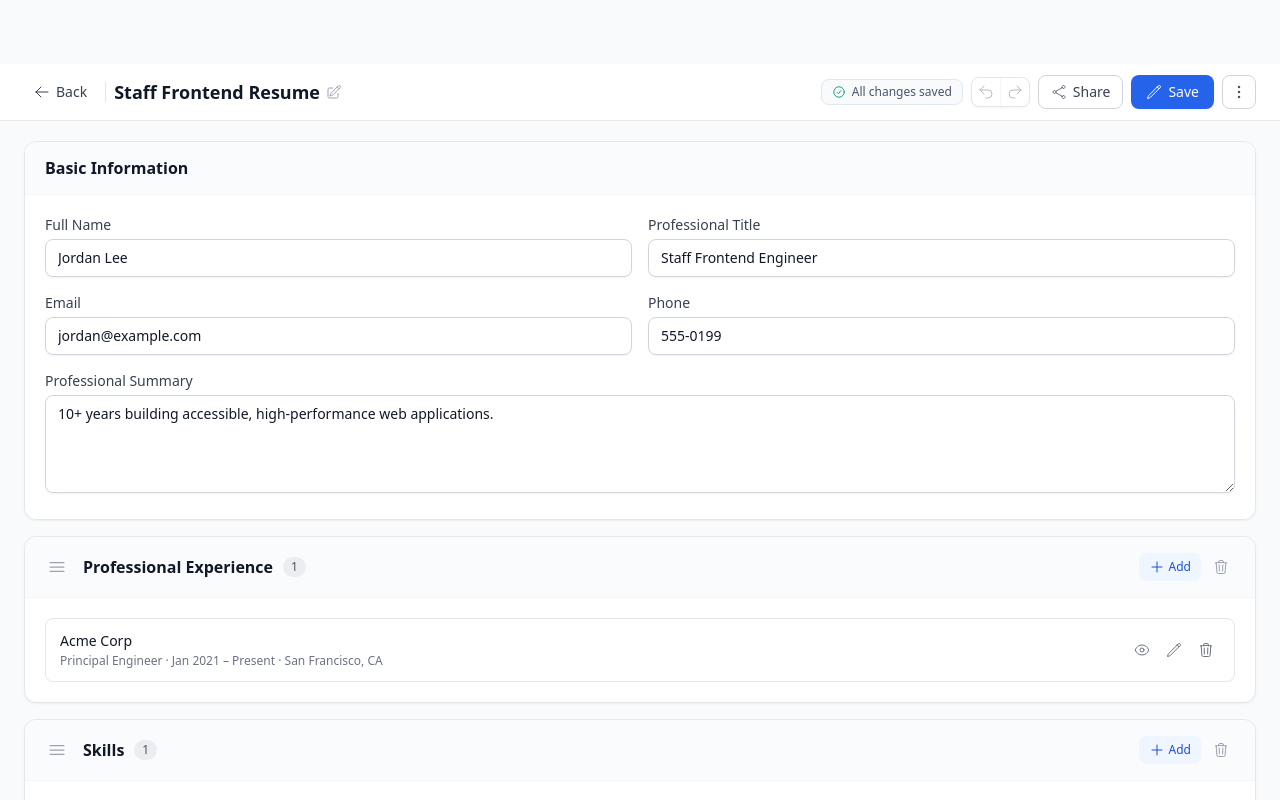
Scenario: ResumeEditor autosave, toolbar status indicator, flush, and serialization › cancels pending debounce on manual Save and serializes concurrent saves with latest queued state
Trigger first autosave so an updateResume call is in-flight
Replace the text in the field labelled "Full Name" with "State 1" at (338, 258), box [45,239,632,277]
Wait 2000 ms
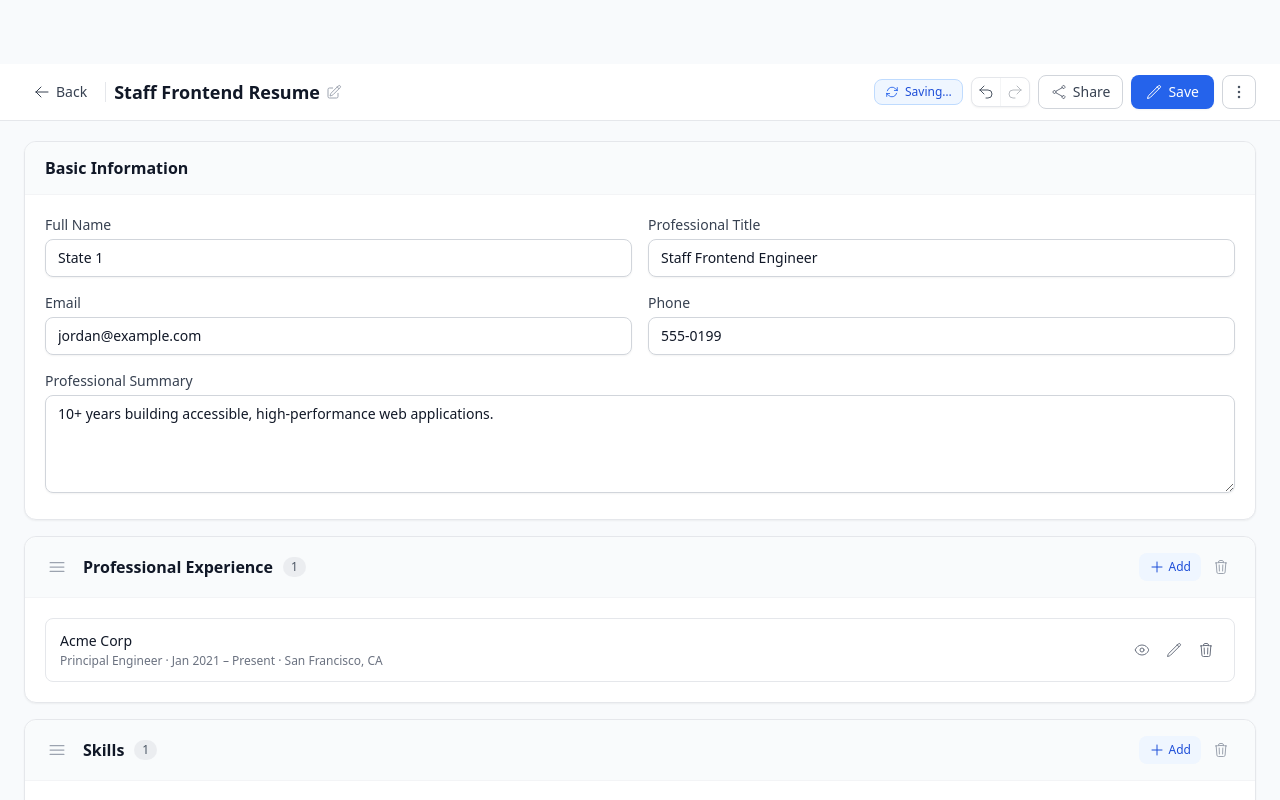
Check: the text "Saving…" is shown, box [905,84,952,100]
While first call is still in-flight, make intermediate + latest edits and click manual Save
Replace the text in the field labelled "Full Name" with "State 2" at (338, 258), box [45,239,632,277]
Wait 2000 ms
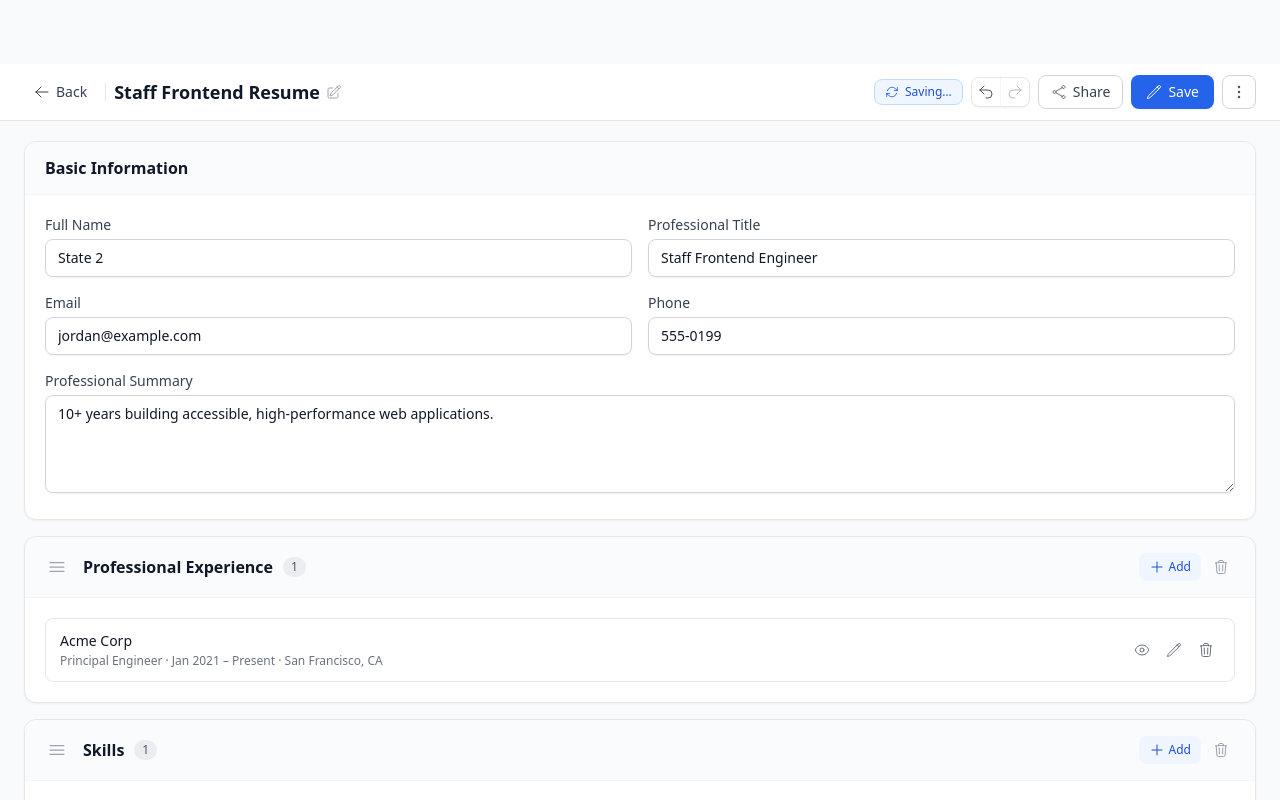
Replace the text in the field labelled "Full Name" with "State 3" at (338, 258), box [45,239,632,277]
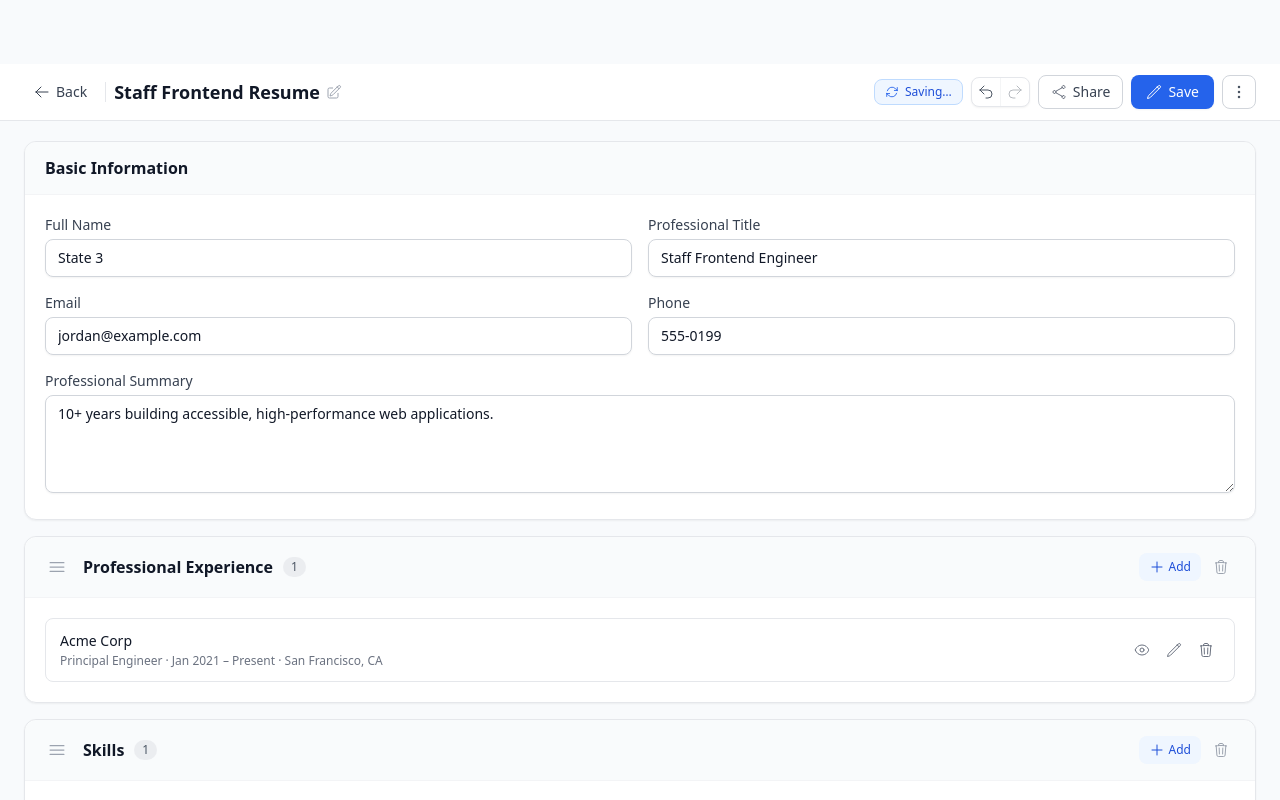
Click the button "Save" at (1173, 92), box [1131,75,1214,109]
Wait 5000 ms
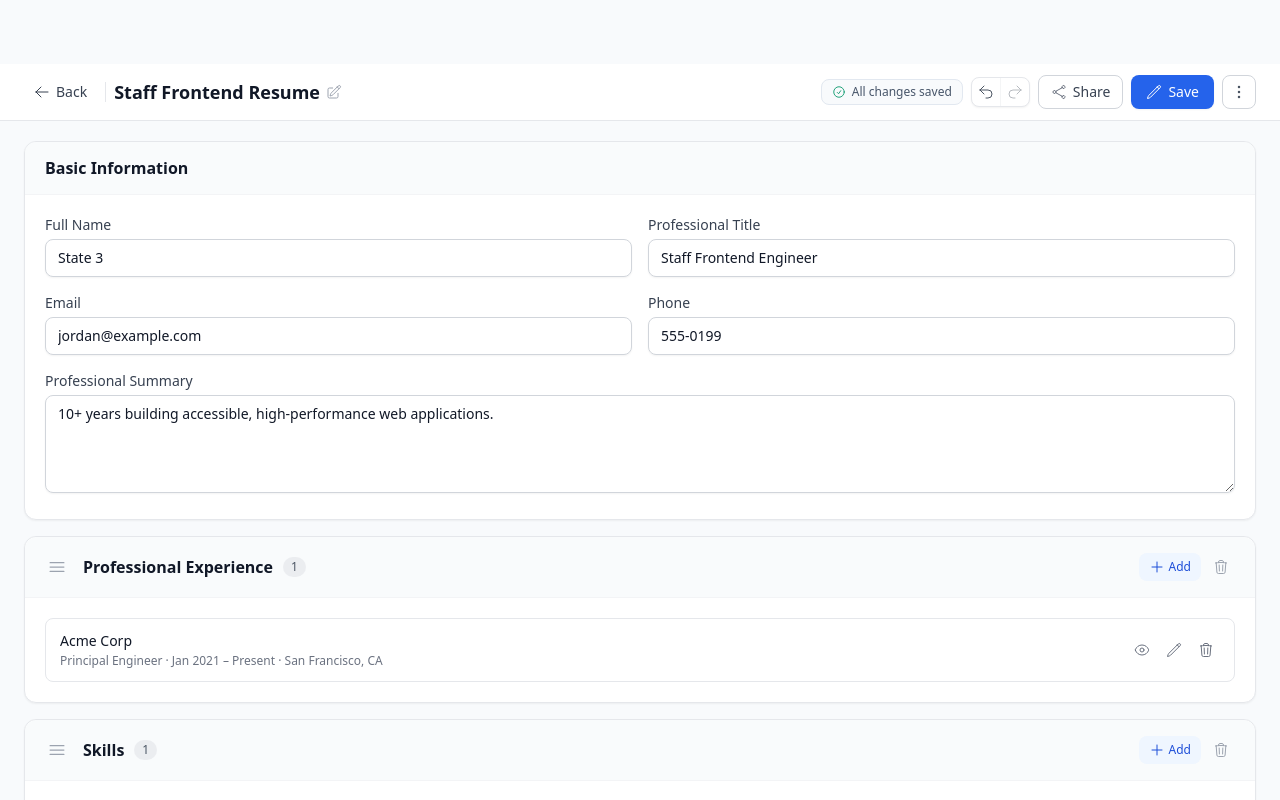
Check: the text "All changes saved" is shown, box [852,84,952,100]
